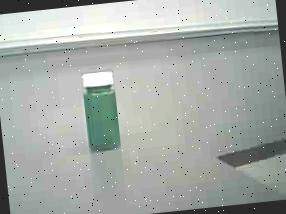Bottle C: (69, 60, 137, 162)
